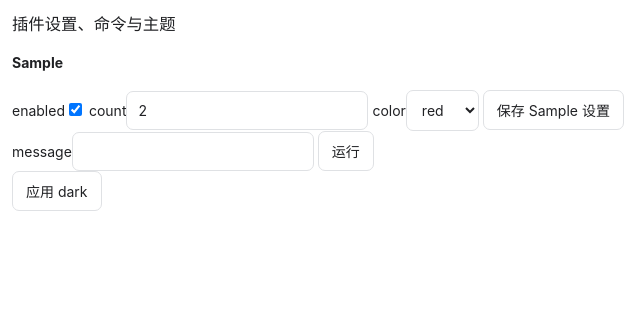
it: renders real settings, saves scoped values and executes declared command arguments
The image size is (641, 321).
Replace the text in the number field labelled "count" with "3" at point(248, 110), box [126,91,368,130]
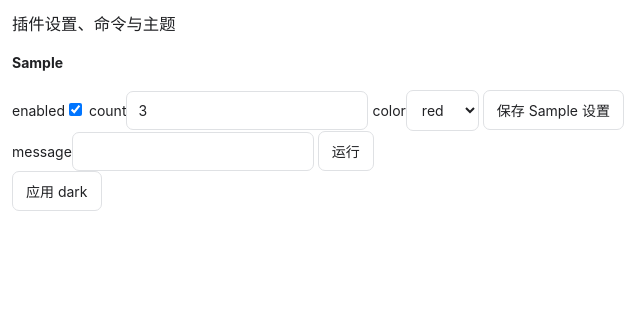
Click the button "保存 Sample 设置" at point(553, 110), box [483,90,624,130]
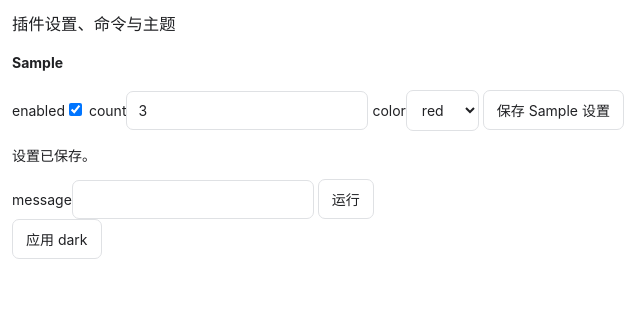
Type "hello" into the field labelled "message" at point(193, 199), box [72,180,314,219]
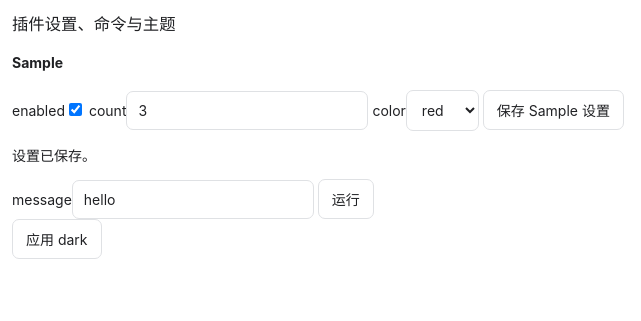
Click the button "运行" at point(346, 199), box [318,179,374,219]
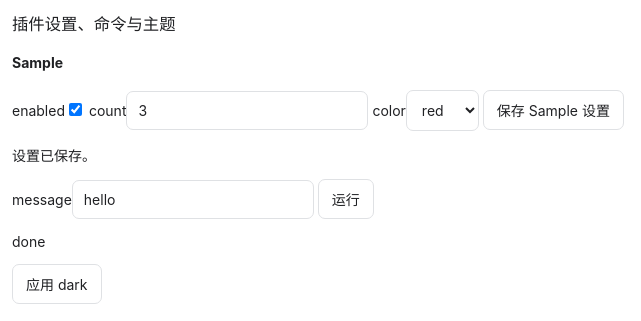
Now the text "done" is shown, box [12,233,45,250]
